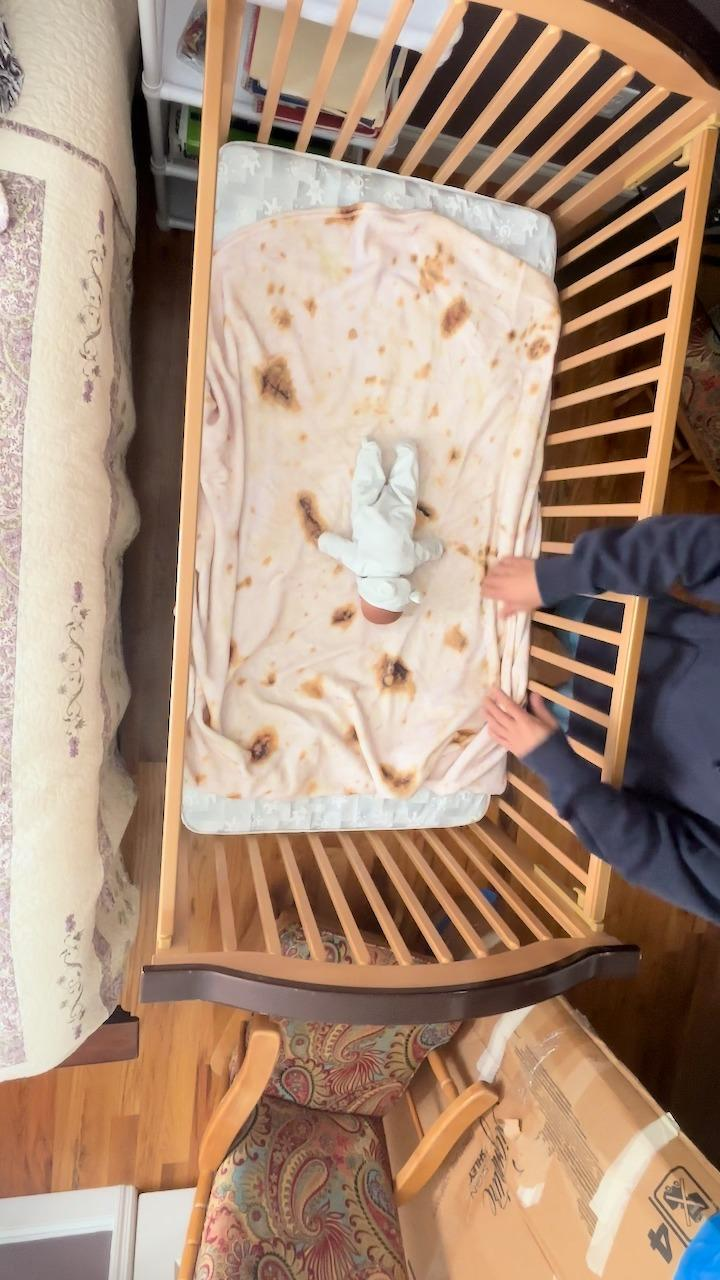baby: (310, 432, 452, 630)
